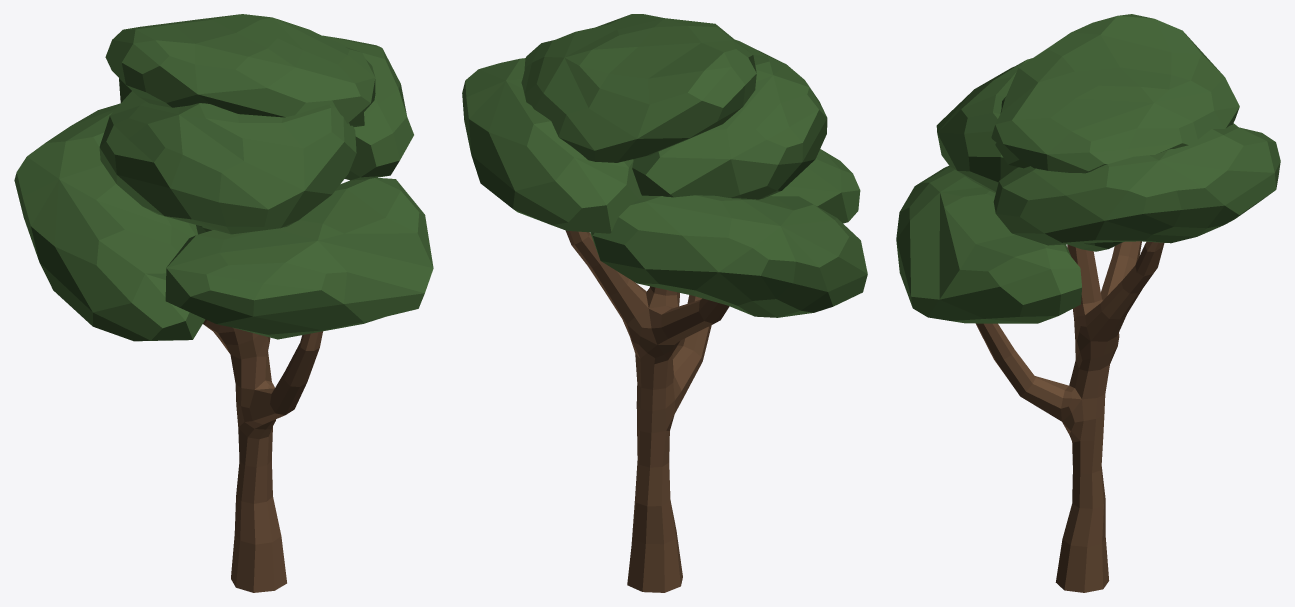
Rendered from Tree_Oak_1.fbx.
3 views of the same model, side by side, from view 1: azimuth 30°, elevation 25°; view 2: azimuth 150°, elevation 25°; view 3: azimuth 270°, elevation 25° (orthographic). The views are drawn at different scales.
Visible parts, largest first — view 1: Oak1; view 2: Oak1; view 3: Oak1.
Boxes of the visible parts, x1,y1,x2,y2 form: Oak1: (14, 14, 433, 592); Oak1: (462, 14, 867, 592); Oak1: (896, 14, 1280, 592).
Bounding box in the file's own units: 4.7 × 7.04 × 4.66.
